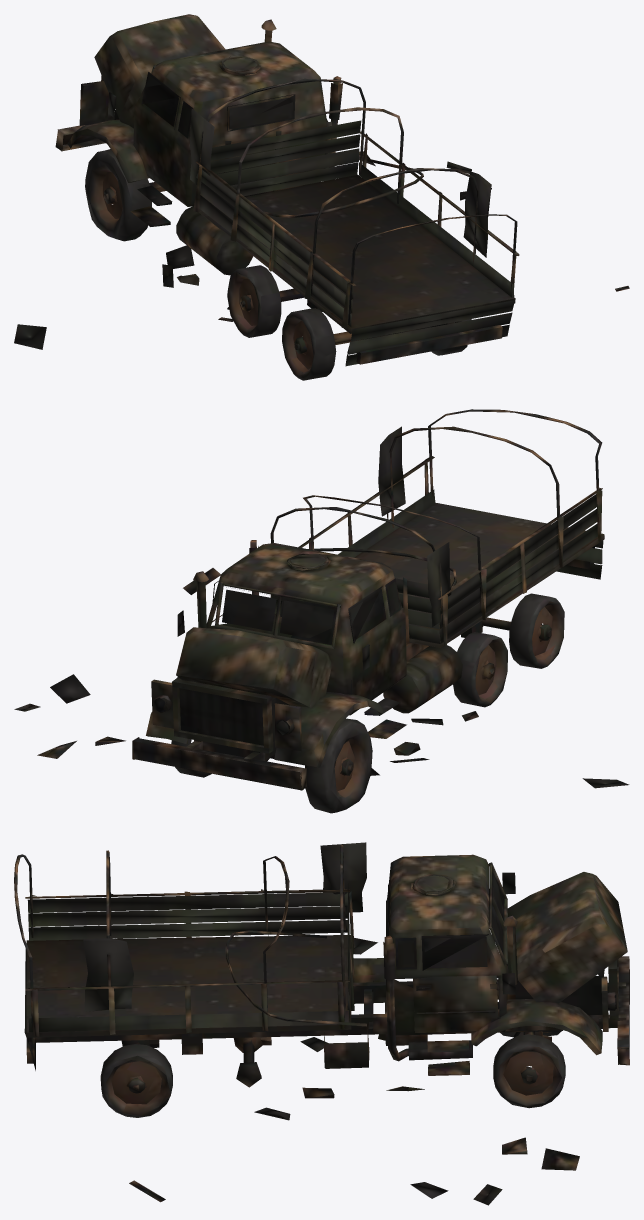
File: truck_destroyed_lod1.glb
3 renders of one model, top to bottom at view 1: azimuth 30°, elevation 25°; view 2: azimuth 150°, elevation 25°; view 3: azimuth 270°, elevation 25°, orthographic. The views are drawn at different scales.
Parts seen in each view (by area): view 1: body, debris; view 2: body, debris; view 3: body, debris.
Part boxes in pixels (bbox=[...]): body: bbox=[55, 14, 519, 380]; debris: bbox=[14, 151, 629, 349]; body: bbox=[132, 409, 604, 813]; debris: bbox=[14, 568, 629, 788]; body: bbox=[14, 842, 629, 1117]; debris: bbox=[129, 938, 579, 1205].
Bounding box in the file's own units: 7.79 × 2.97 × 7.68.
Materials: 1 (1 with a texture image).
